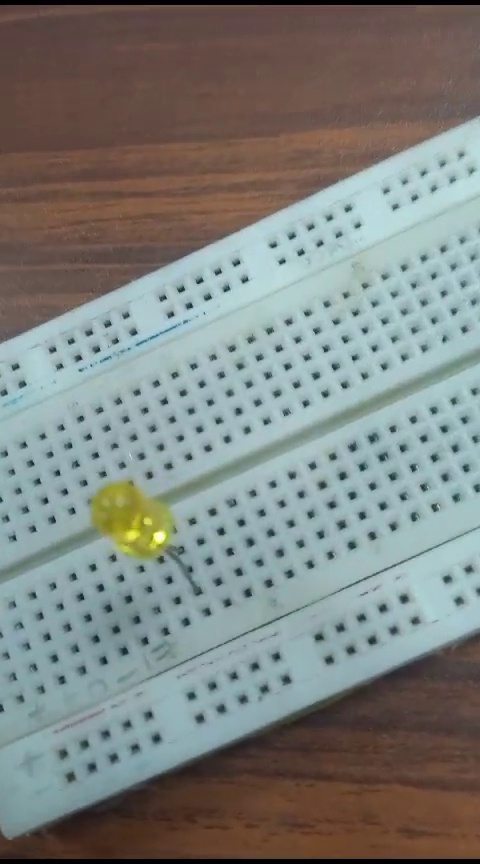LED: (62, 473, 200, 616)
